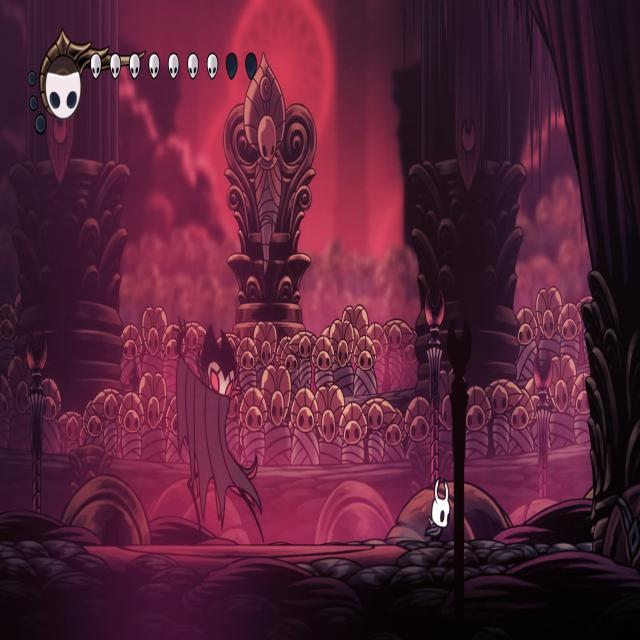Dash Uppercut: (174, 316, 271, 541)
Player: (423, 469, 451, 544)
